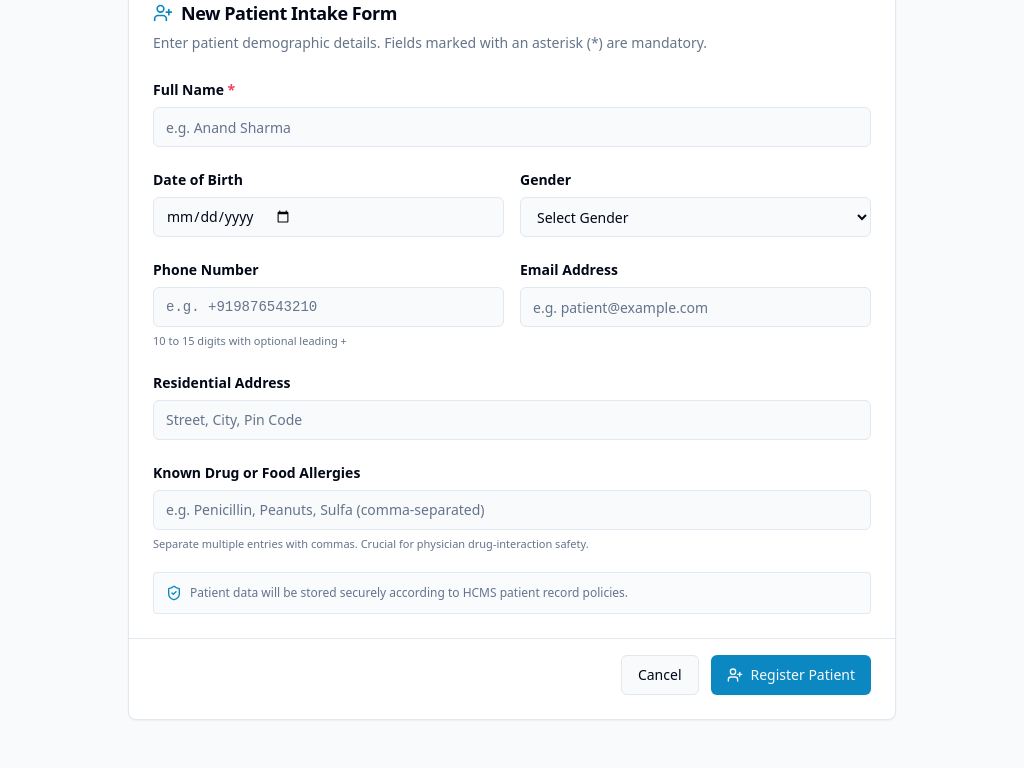
Test: Receptionist Patient Management & Registration › validates patient intake form and rejects short full name
This screenshot has width=1024, height=768.
(page scrolled)
What coordinates should you click on to do the following:
click the button "Register Patient"
I would click on:
 (791, 675)
Its box is [710,655,871,695].
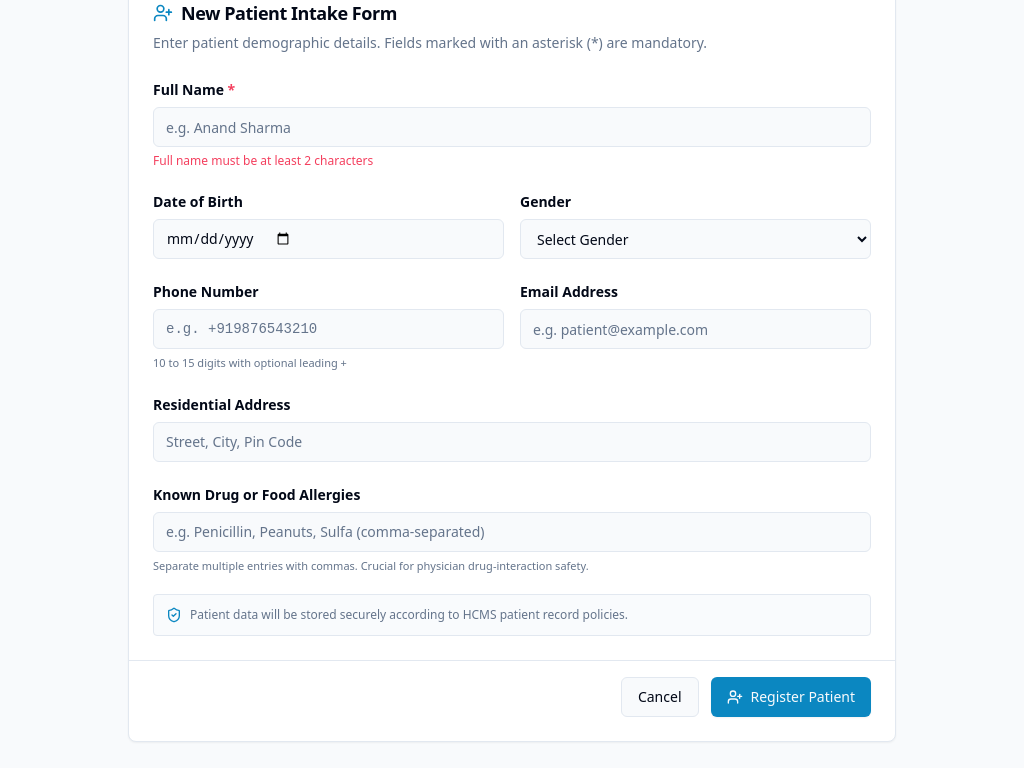
Result: the text "Full name must be at least 2 characters" is shown at [153,152,373,169]
